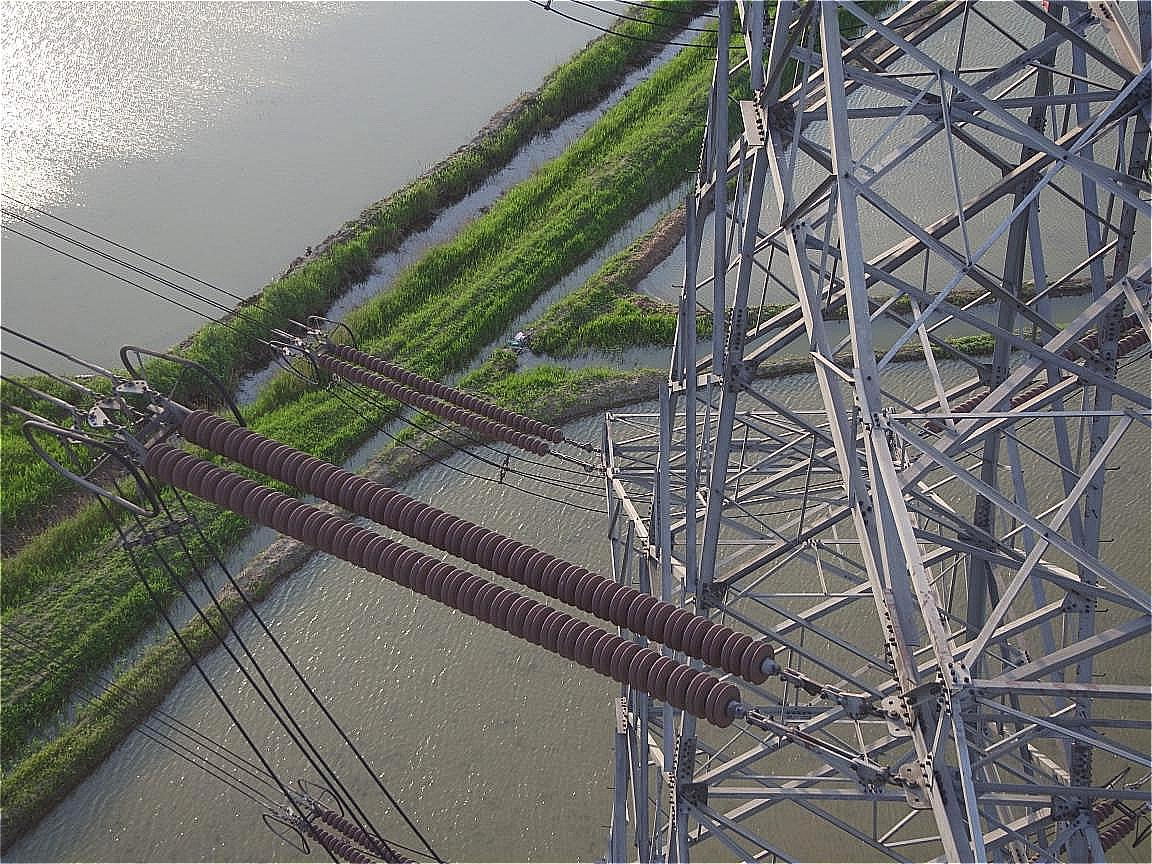insultor1: (311, 324, 574, 456)
insultor2: (127, 386, 785, 717)
